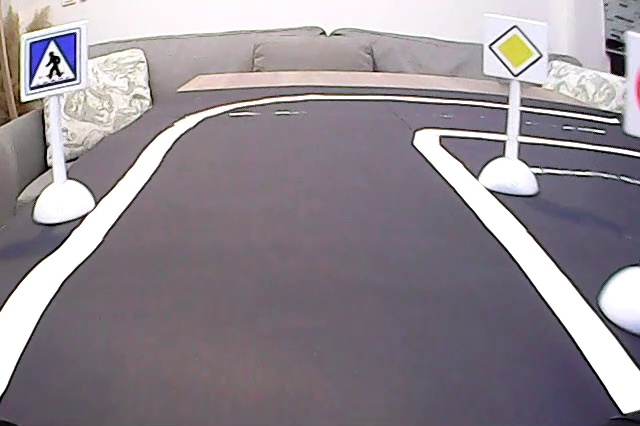pedestrian crossing: (24, 36, 79, 91)
